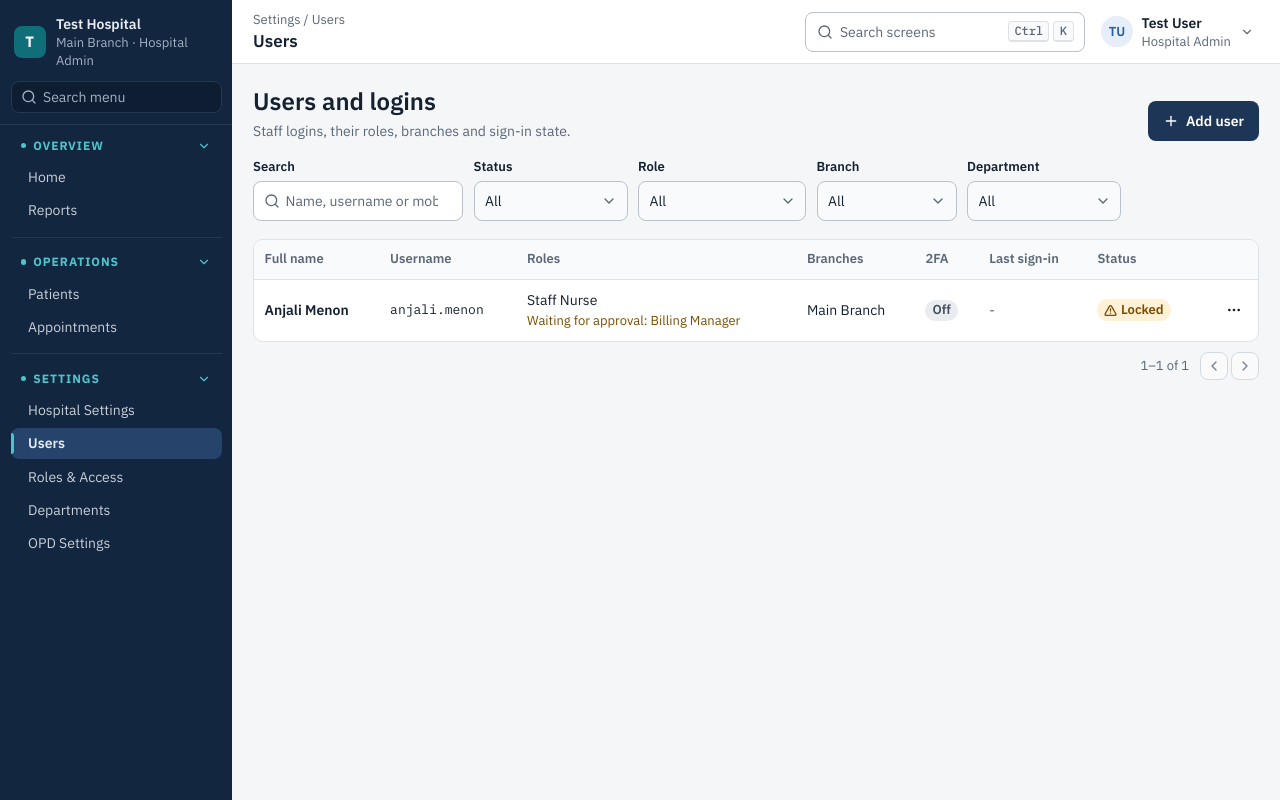
Users › unlocks, and deactivating needs a reason (409 LAST_SUPER_ADMIN shown)
Click the button named "Actions for Anjali Menon": click(1234, 310) [1220,296,1248,324]
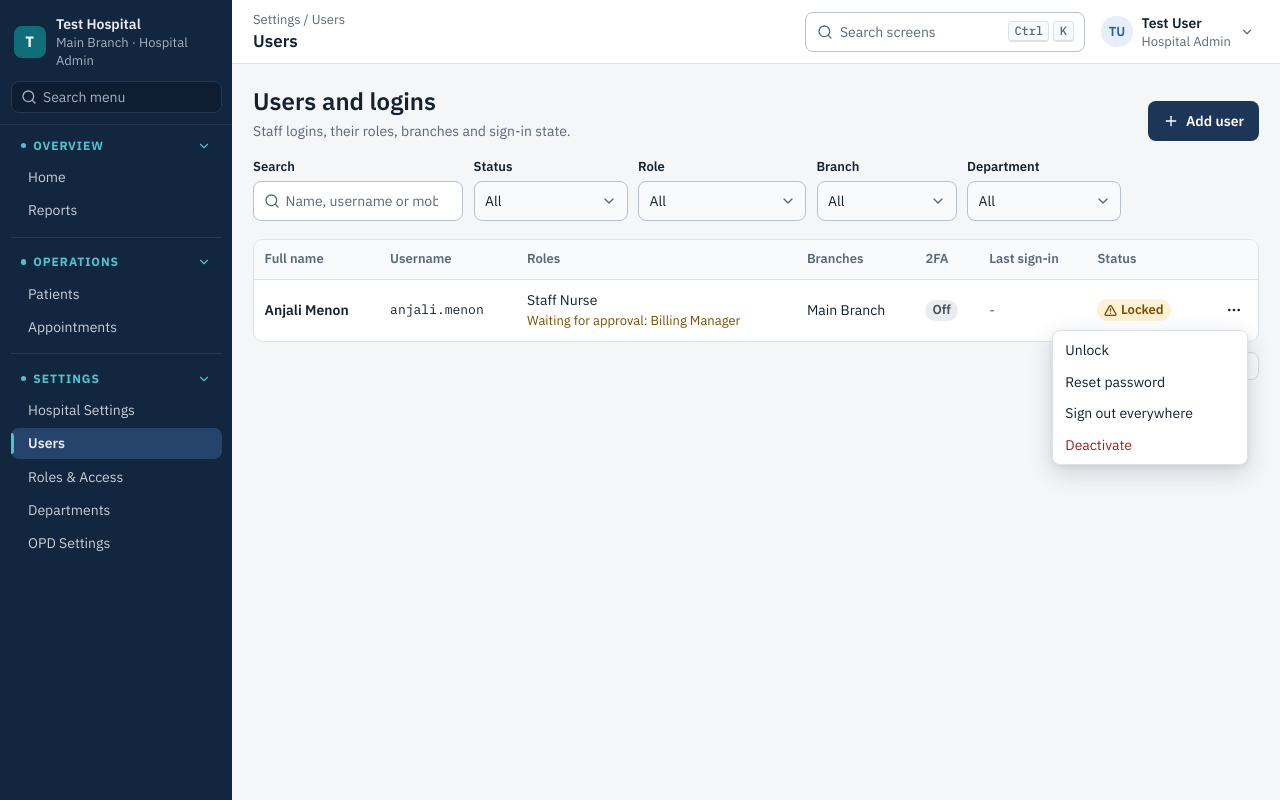
Click the menu item "Unlock": click(1087, 350) [1065,341,1109,359]
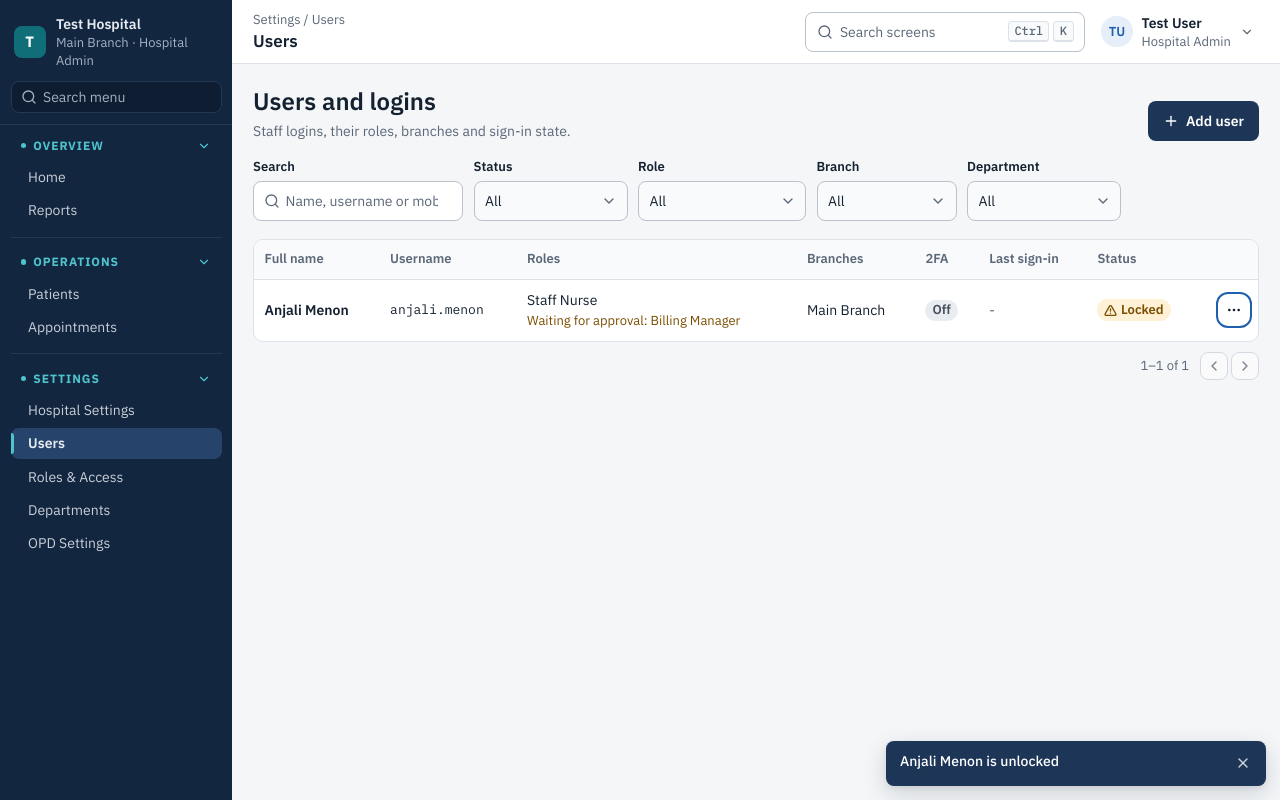
Result: the text "Anjali Menon is unlocked" is shown at [900,752,1059,770]
Click the button named "Actions for Anjali Menon": click(1234, 310) [1220,296,1248,324]
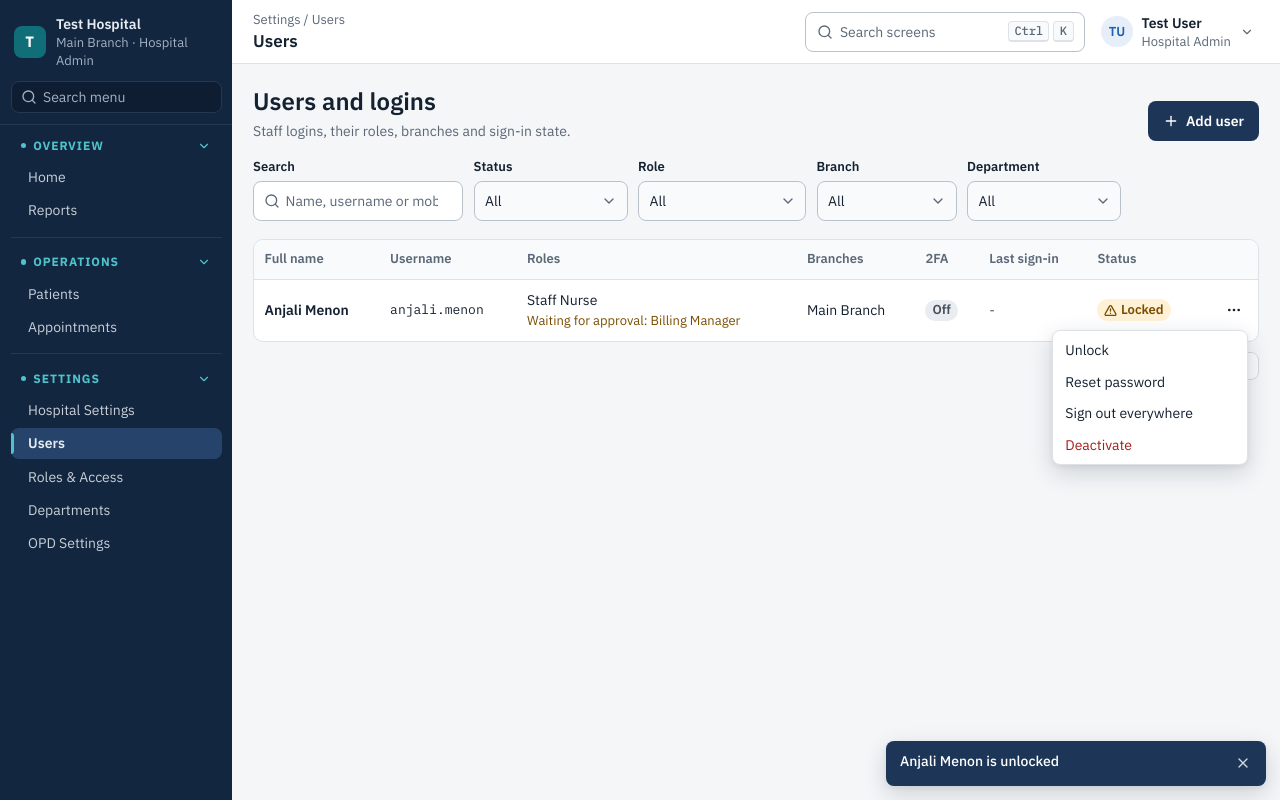
Click the menu item "Deactivate": click(1099, 445) [1065,436,1132,454]
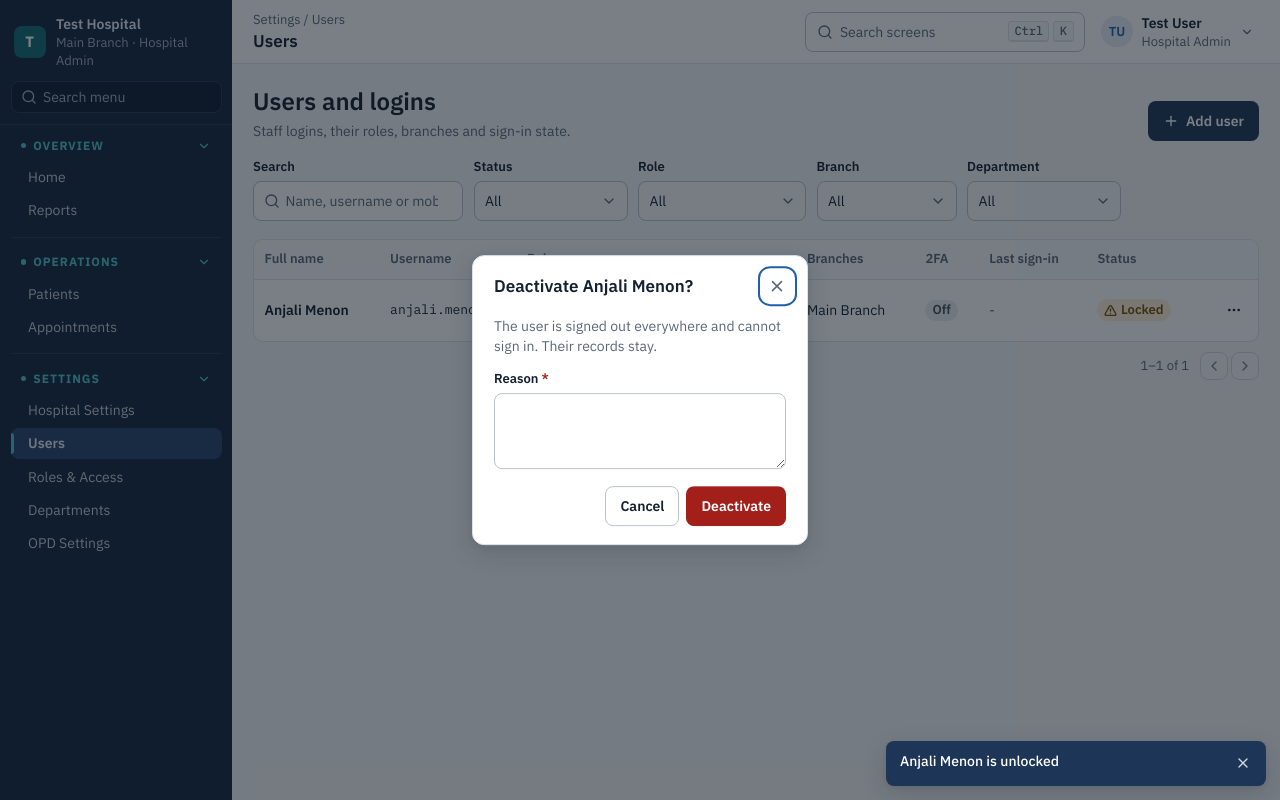
In the text box: (640, 431) [494,393,786,469], type "Left the hospital"
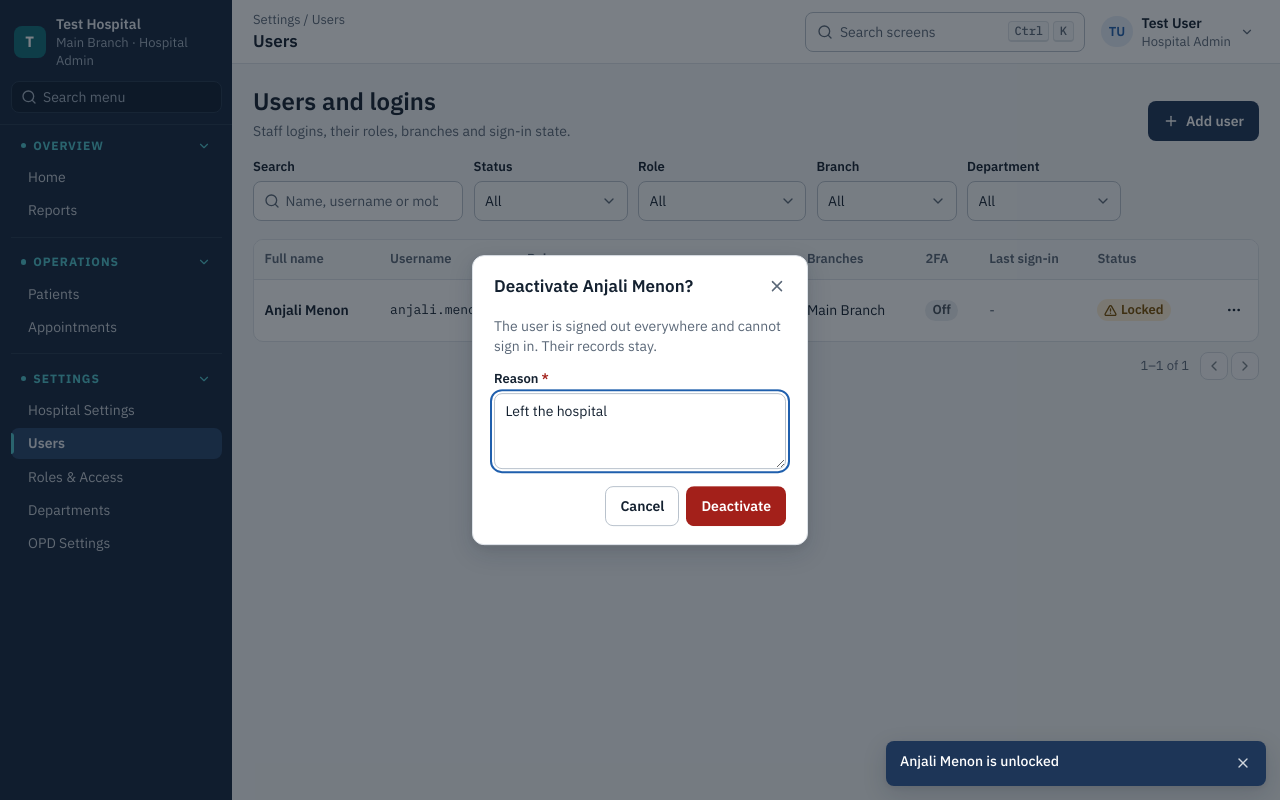
Click the button "Deactivate": click(736, 506) [686,486,786,526]
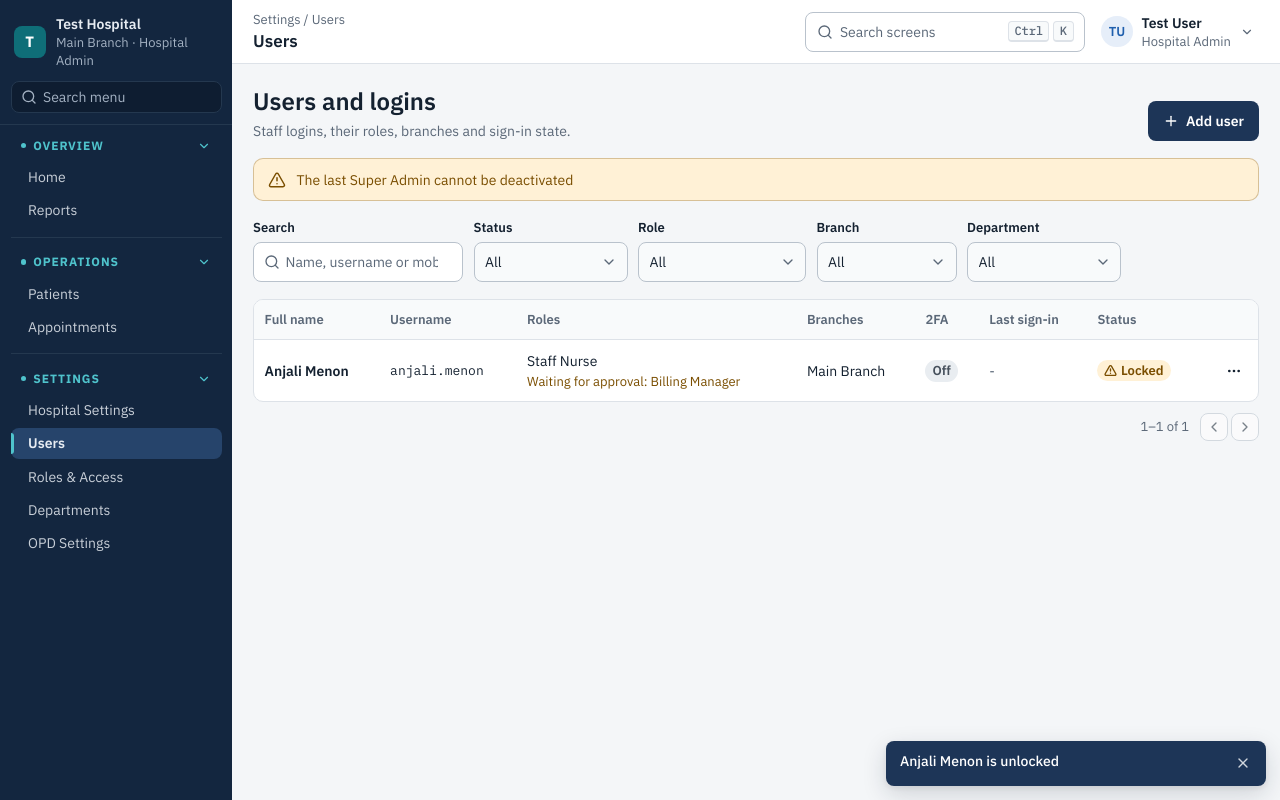
Result: the message reads "The last Super Admin cannot be deactivated" at [296,170,573,188]
